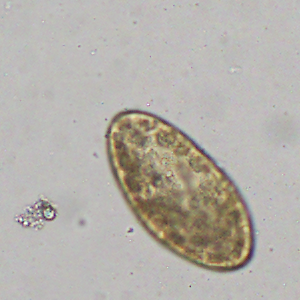Fasciola_hepatica_egg: (105, 108, 258, 273)
